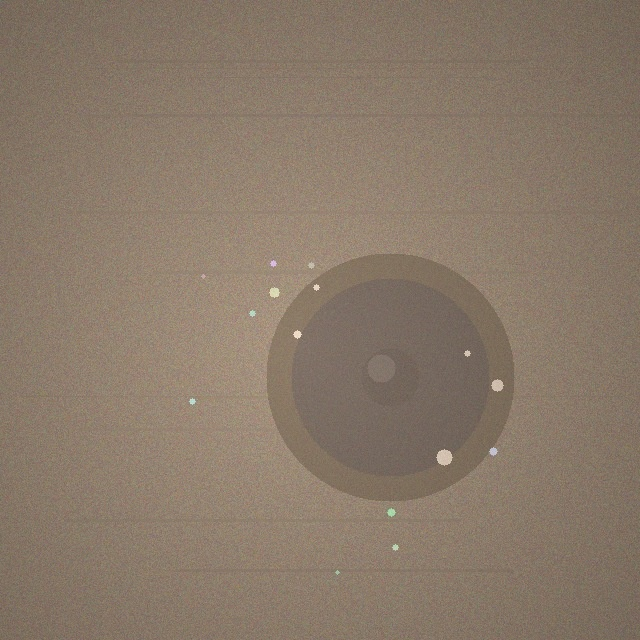overburn: (266, 253, 514, 501)
